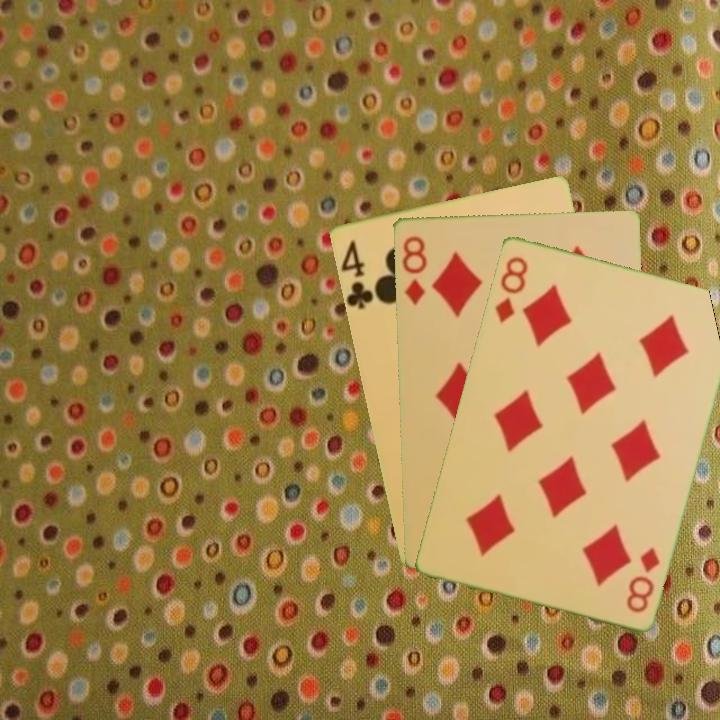4c: (337, 236, 376, 312)
8d: (622, 543, 663, 616), (491, 252, 531, 325), (398, 232, 430, 308)
